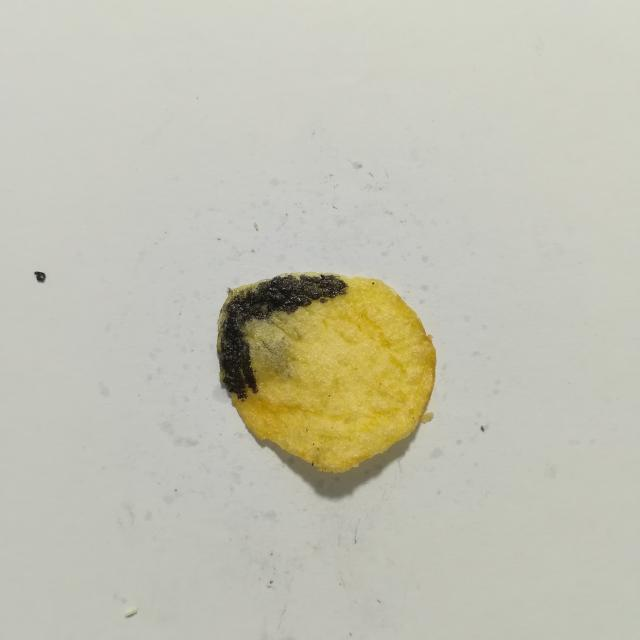chip: (217, 273, 436, 472)
damaged: (217, 273, 348, 401), (372, 282, 375, 285)
semi-damaged: (245, 320, 292, 376)
